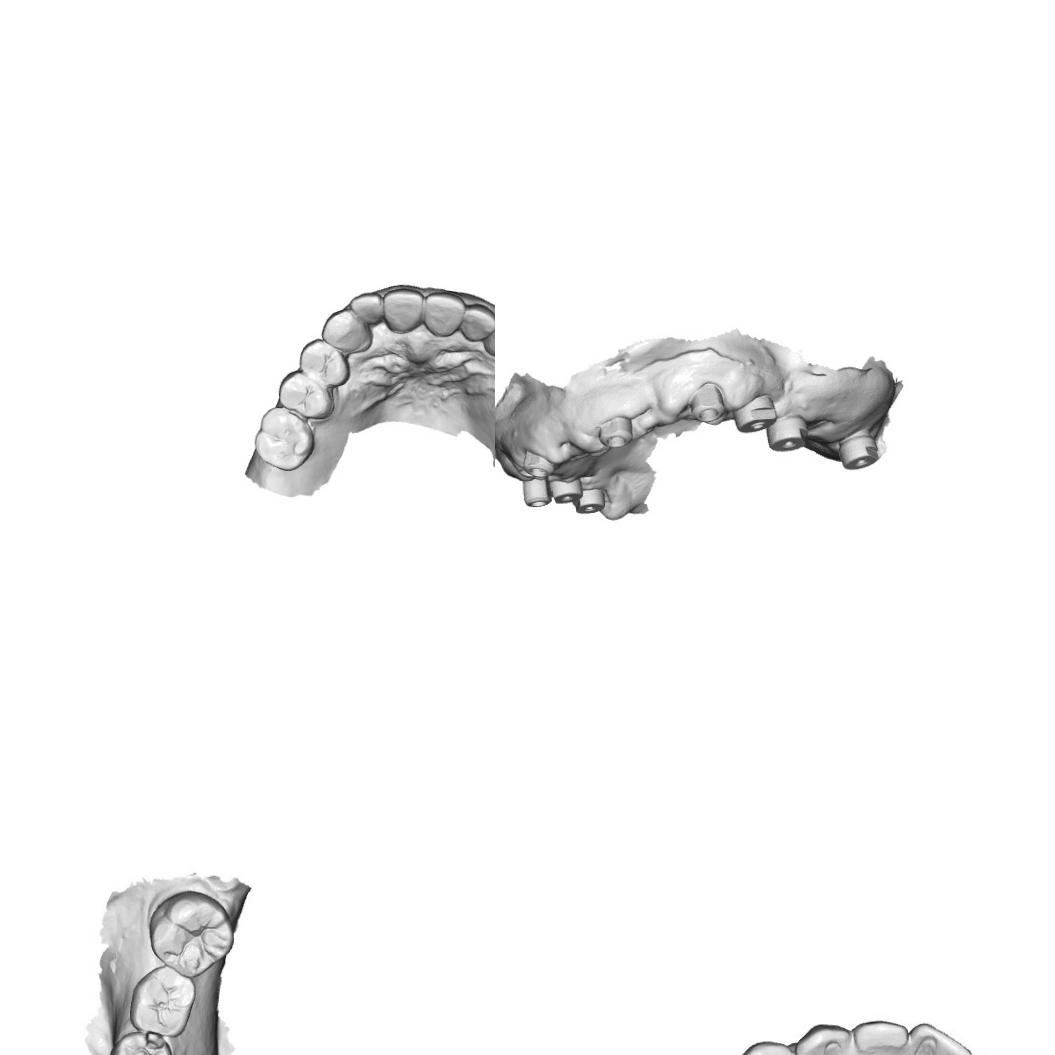canine: (320, 307, 373, 355), (797, 1022, 851, 1055), (481, 317, 495, 359)
implant: (763, 406, 816, 460), (728, 387, 782, 438), (831, 424, 884, 472), (684, 380, 729, 427), (511, 466, 555, 511), (594, 408, 639, 450), (546, 472, 588, 508), (572, 483, 613, 518)
incisor: (853, 1018, 911, 1055), (902, 1024, 971, 1055), (424, 290, 467, 338), (382, 286, 424, 335), (458, 302, 495, 342), (347, 291, 384, 327)
molar: (150, 895, 232, 973), (252, 404, 319, 472), (130, 966, 193, 1038)
premolar: (276, 368, 335, 421), (298, 337, 352, 389), (116, 1031, 170, 1055), (737, 1040, 799, 1055)
